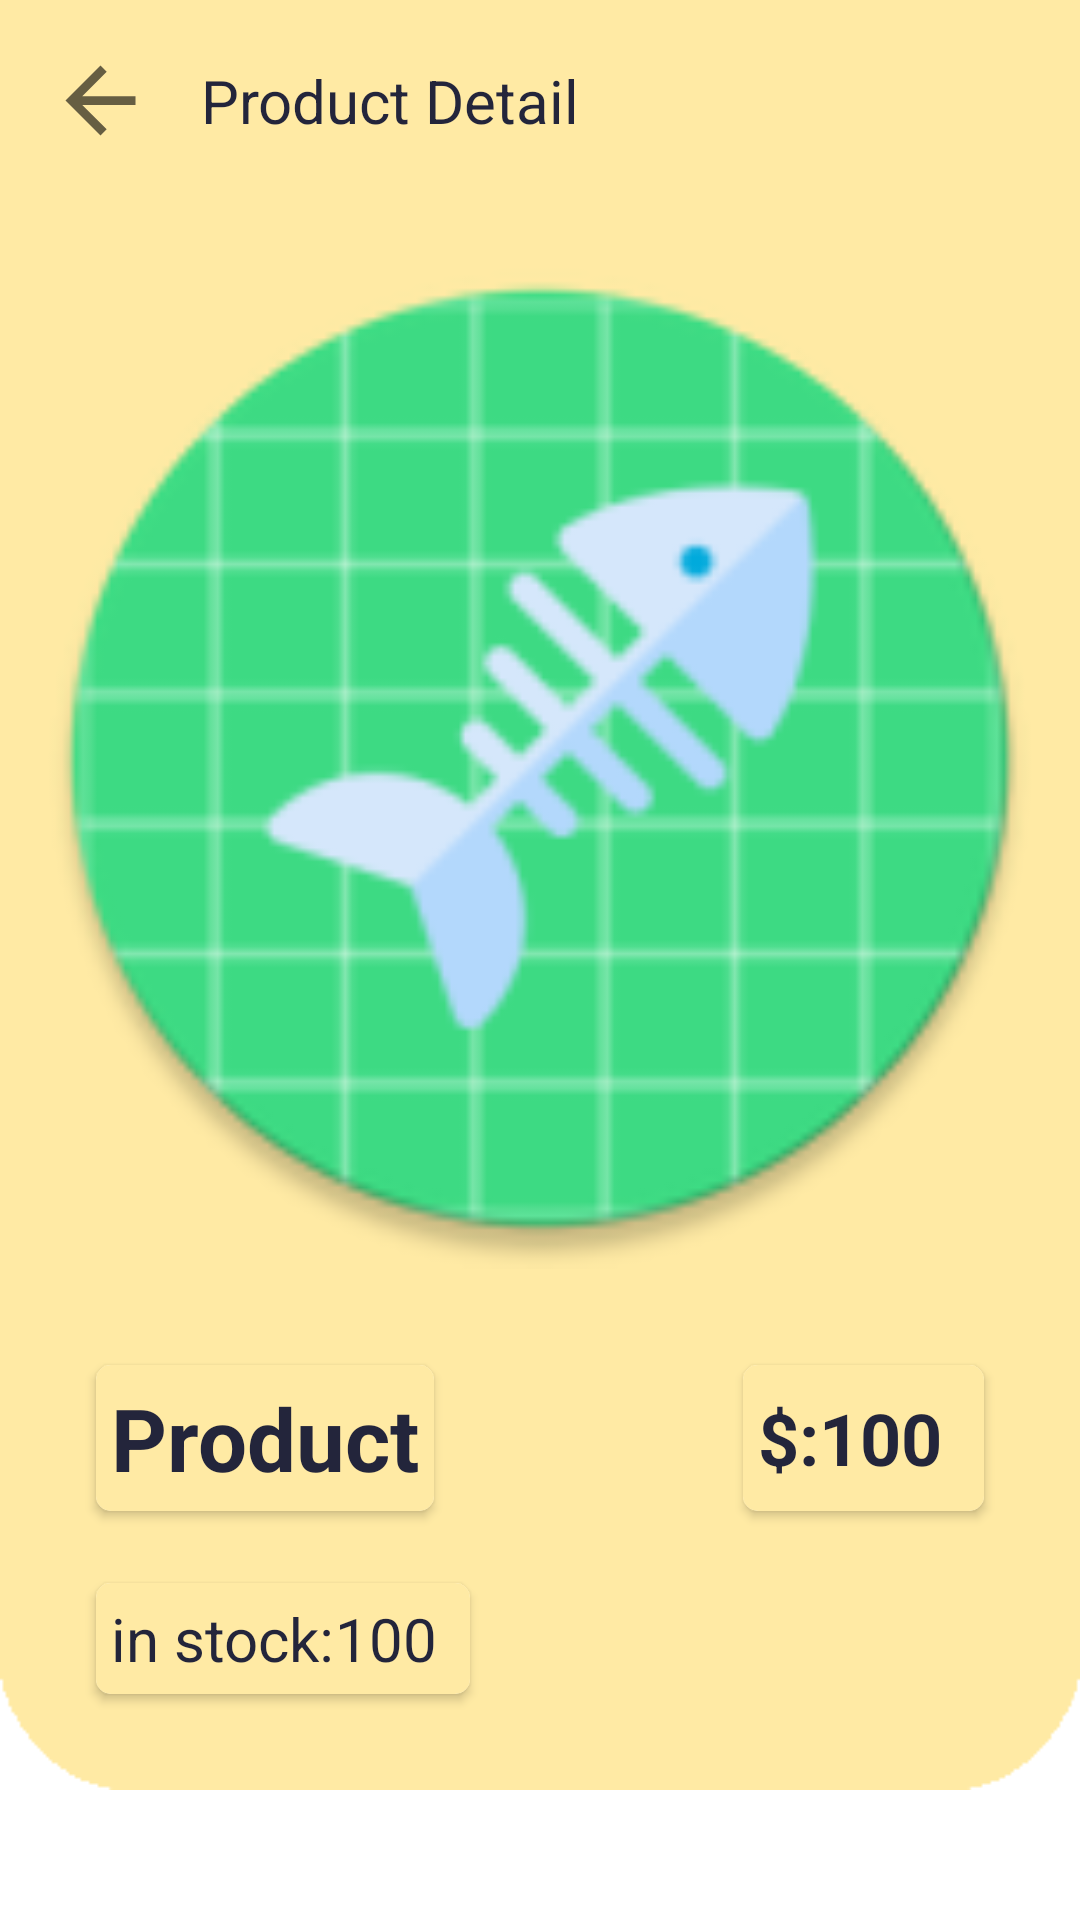

Icon bounding boxes for this 1080×1920 phone screenshot, format (x1, y1, x2, y2):
arrow back: (65, 65, 136, 136)
